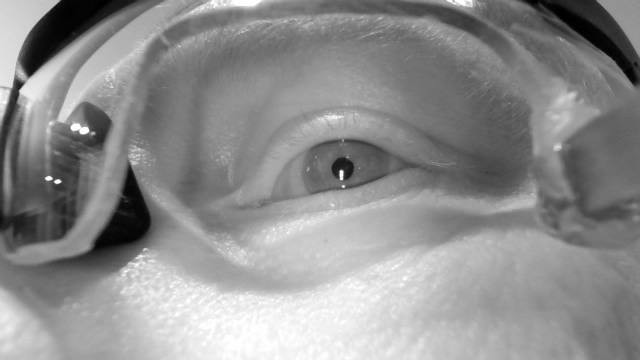pupil: (330, 156, 355, 182)
